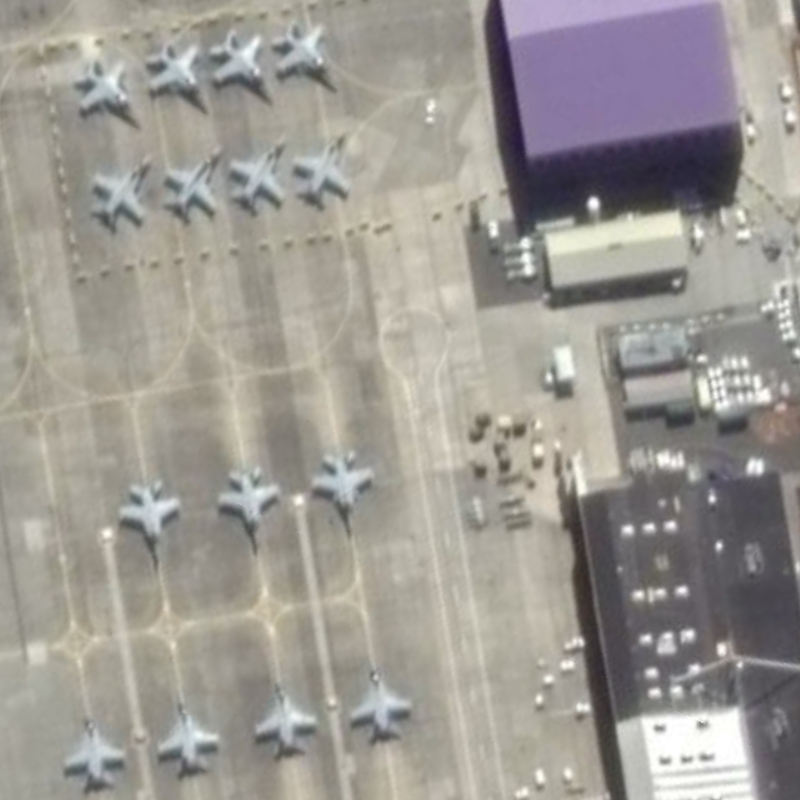A16: (303, 438, 387, 543), (112, 464, 192, 573), (150, 678, 228, 781), (57, 695, 134, 799), (286, 117, 360, 216), (211, 457, 284, 557), (249, 666, 322, 765), (82, 141, 160, 233), (343, 648, 414, 747), (159, 137, 232, 228), (268, 10, 339, 101), (203, 19, 276, 106), (225, 128, 291, 218), (71, 55, 147, 133), (143, 36, 210, 119)
